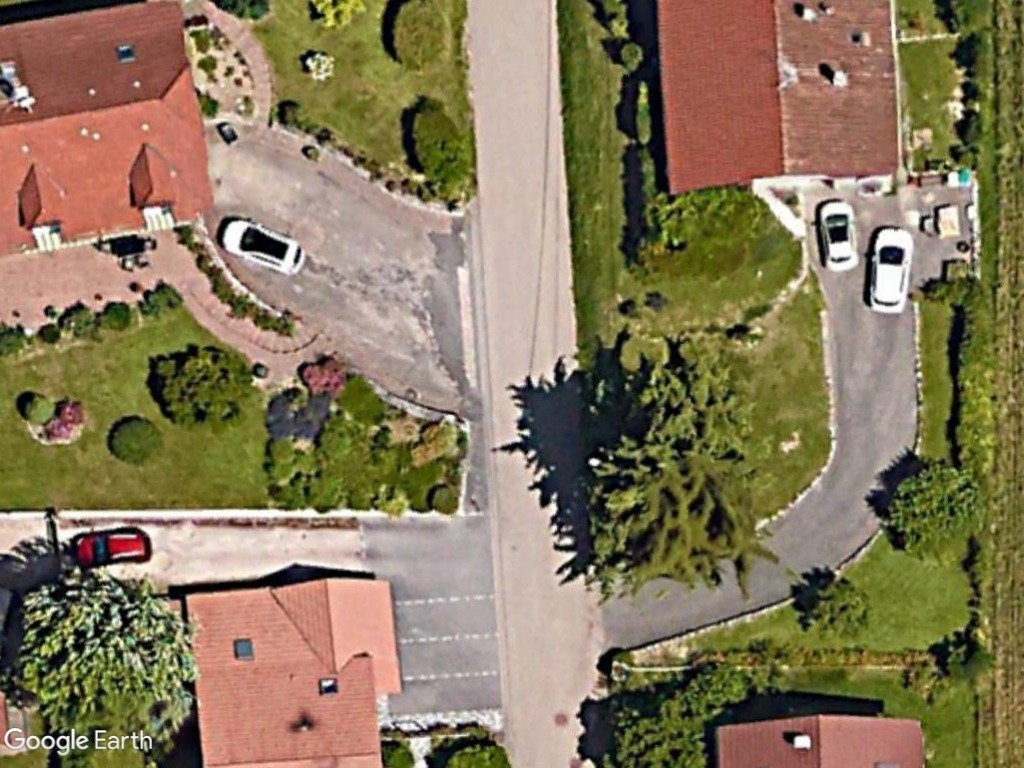car: (218, 217, 309, 278), (864, 226, 914, 316), (816, 199, 860, 274)
